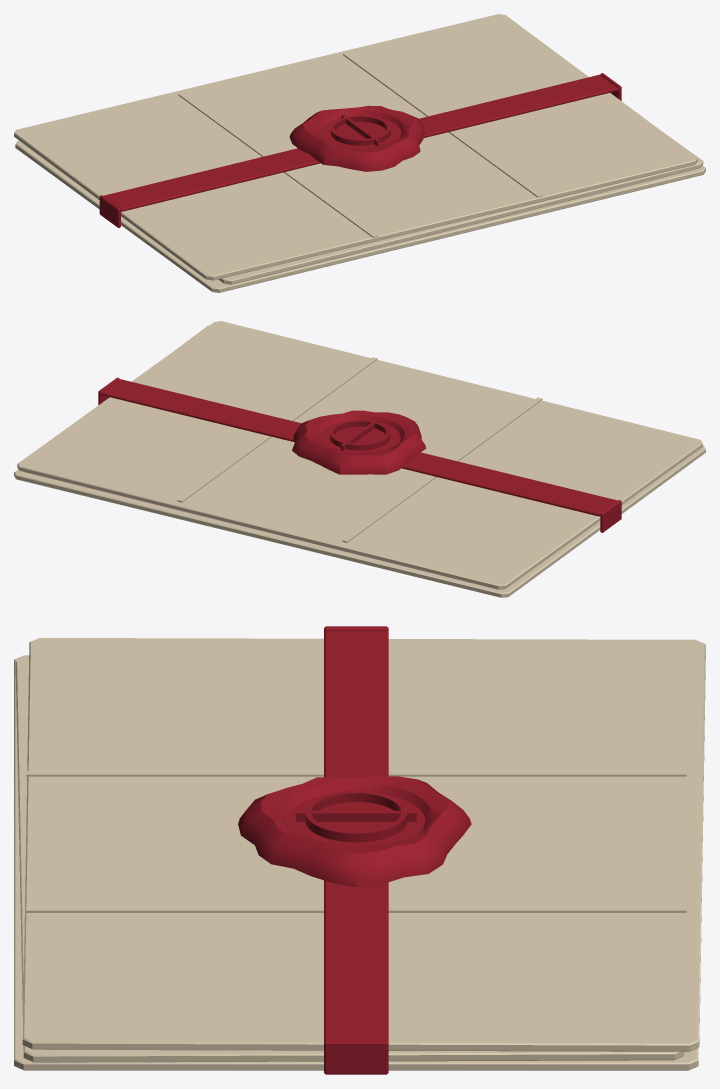
The model's file is strand_last_letter.glb.
3 views of the same model, one above another, from view 1: azimuth 30°, elevation 25°; view 2: azimuth 150°, elevation 25°; view 3: azimuth 270°, elevation 25° (orthographic). The views are drawn at different scales.
Parts seen in each view (by area): view 1: strand_last_letter, ribbon; view 2: strand_last_letter, ribbon; view 3: strand_last_letter, ribbon.
Boxes of the visible parts, <box> form: strand_last_letter: <box>14,14,705,292</box>; ribbon: <box>99,73,621,227</box>; strand_last_letter: <box>14,321,705,597</box>; ribbon: <box>98,377,621,532</box>; strand_last_letter: <box>14,638,705,1070</box>; ribbon: <box>238,626,471,1074</box>.
Size of the model in its own units: 0.1224 by 0.0075 by 0.0859.
